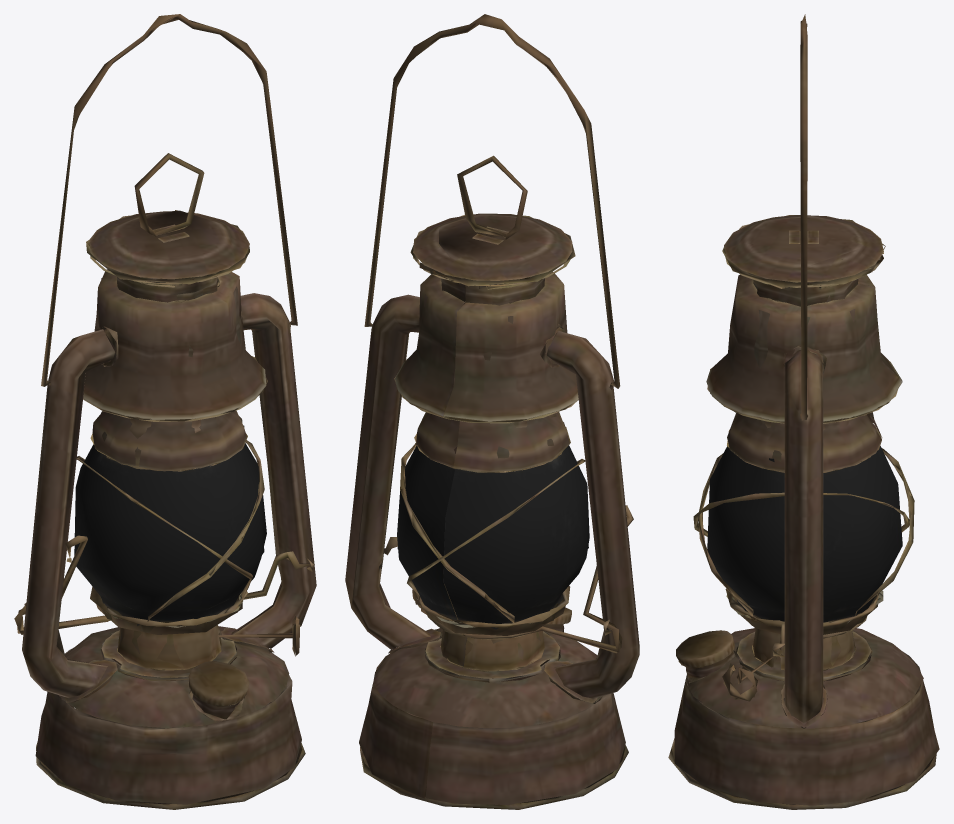
Rendered from lantern.glb.
3 renders of one model, left to right at view 1: azimuth 30°, elevation 25°; view 2: azimuth 150°, elevation 25°; view 3: azimuth 270°, elevation 25°, orthographic.
Parts seen in each view (by area): view 1: lantern; view 2: lantern; view 3: lantern.
Part boxes in pixels (x1,y1,x2,y2): lantern: (14, 14, 316, 809); lantern: (345, 14, 639, 809); lantern: (668, 14, 939, 809).
Bounding box in the file's own units: 0.1869 × 0.45 × 0.1503.
2 materials, 2 textured.
